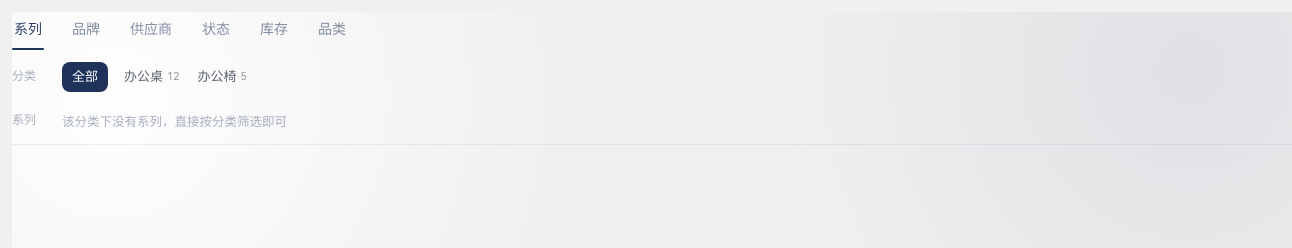
ProductFilterNav › 状态维度没有三级菜单
The width and height of the screenshot is (1292, 248).
Click the tab with class "filter-nav__tab" showing "状态" at (216, 32), box [200,14,232,50]
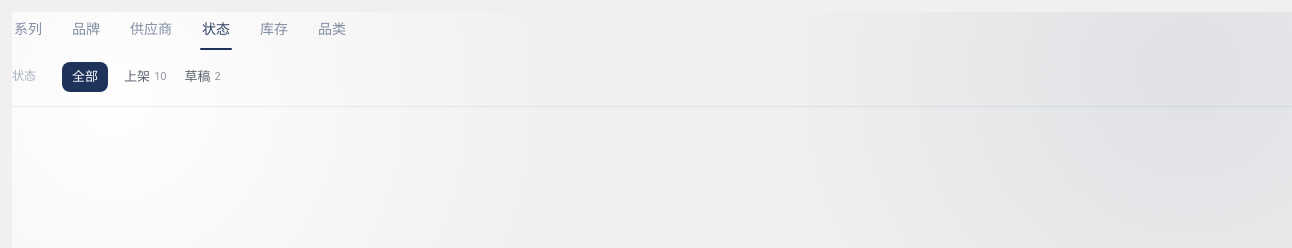
Expected: no elements with class "filter-nav__row--sub" are shown
